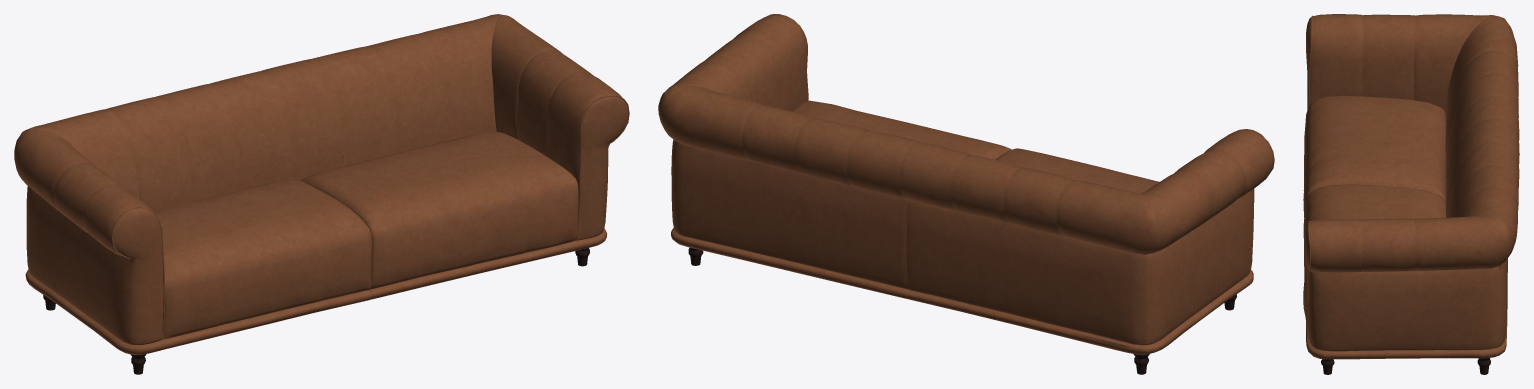
The model's file is 11 - VISKAFORS 3-seat sofa - Högalid brownbrown.glb.
The picture shows the model from 3 angles, left to right: view 1: azimuth 30°, elevation 25°; view 2: azimuth 150°, elevation 25°; view 3: azimuth 270°, elevation 25°; orthographic projection. The views are drawn at different scales.
Visible parts, largest first — view 1: Mesh_0; view 2: Mesh_0; view 3: Mesh_0.
Part boxes in pixels (left/top/right/bottom): Mesh_0: left=14, top=14, right=629, bottom=374; Mesh_0: left=658, top=14, right=1274, bottom=374; Mesh_0: left=1303, top=14, right=1519, bottom=374.
Bounding box in the file's own units: 2.26 × 0.7432 × 0.9099.
Materials: 1 (1 with a texture image).
